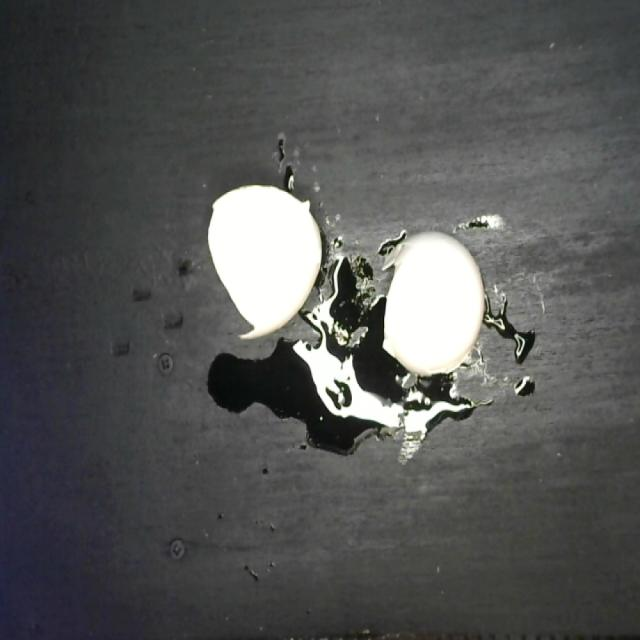biodegradable: (204, 179, 486, 382)
